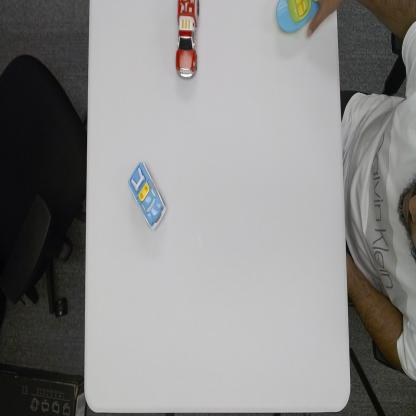Boat: (275, 0, 318, 35)
Car: (127, 159, 169, 231)
Firetruck: (174, 0, 201, 83)
Hand: (308, 0, 335, 40)
